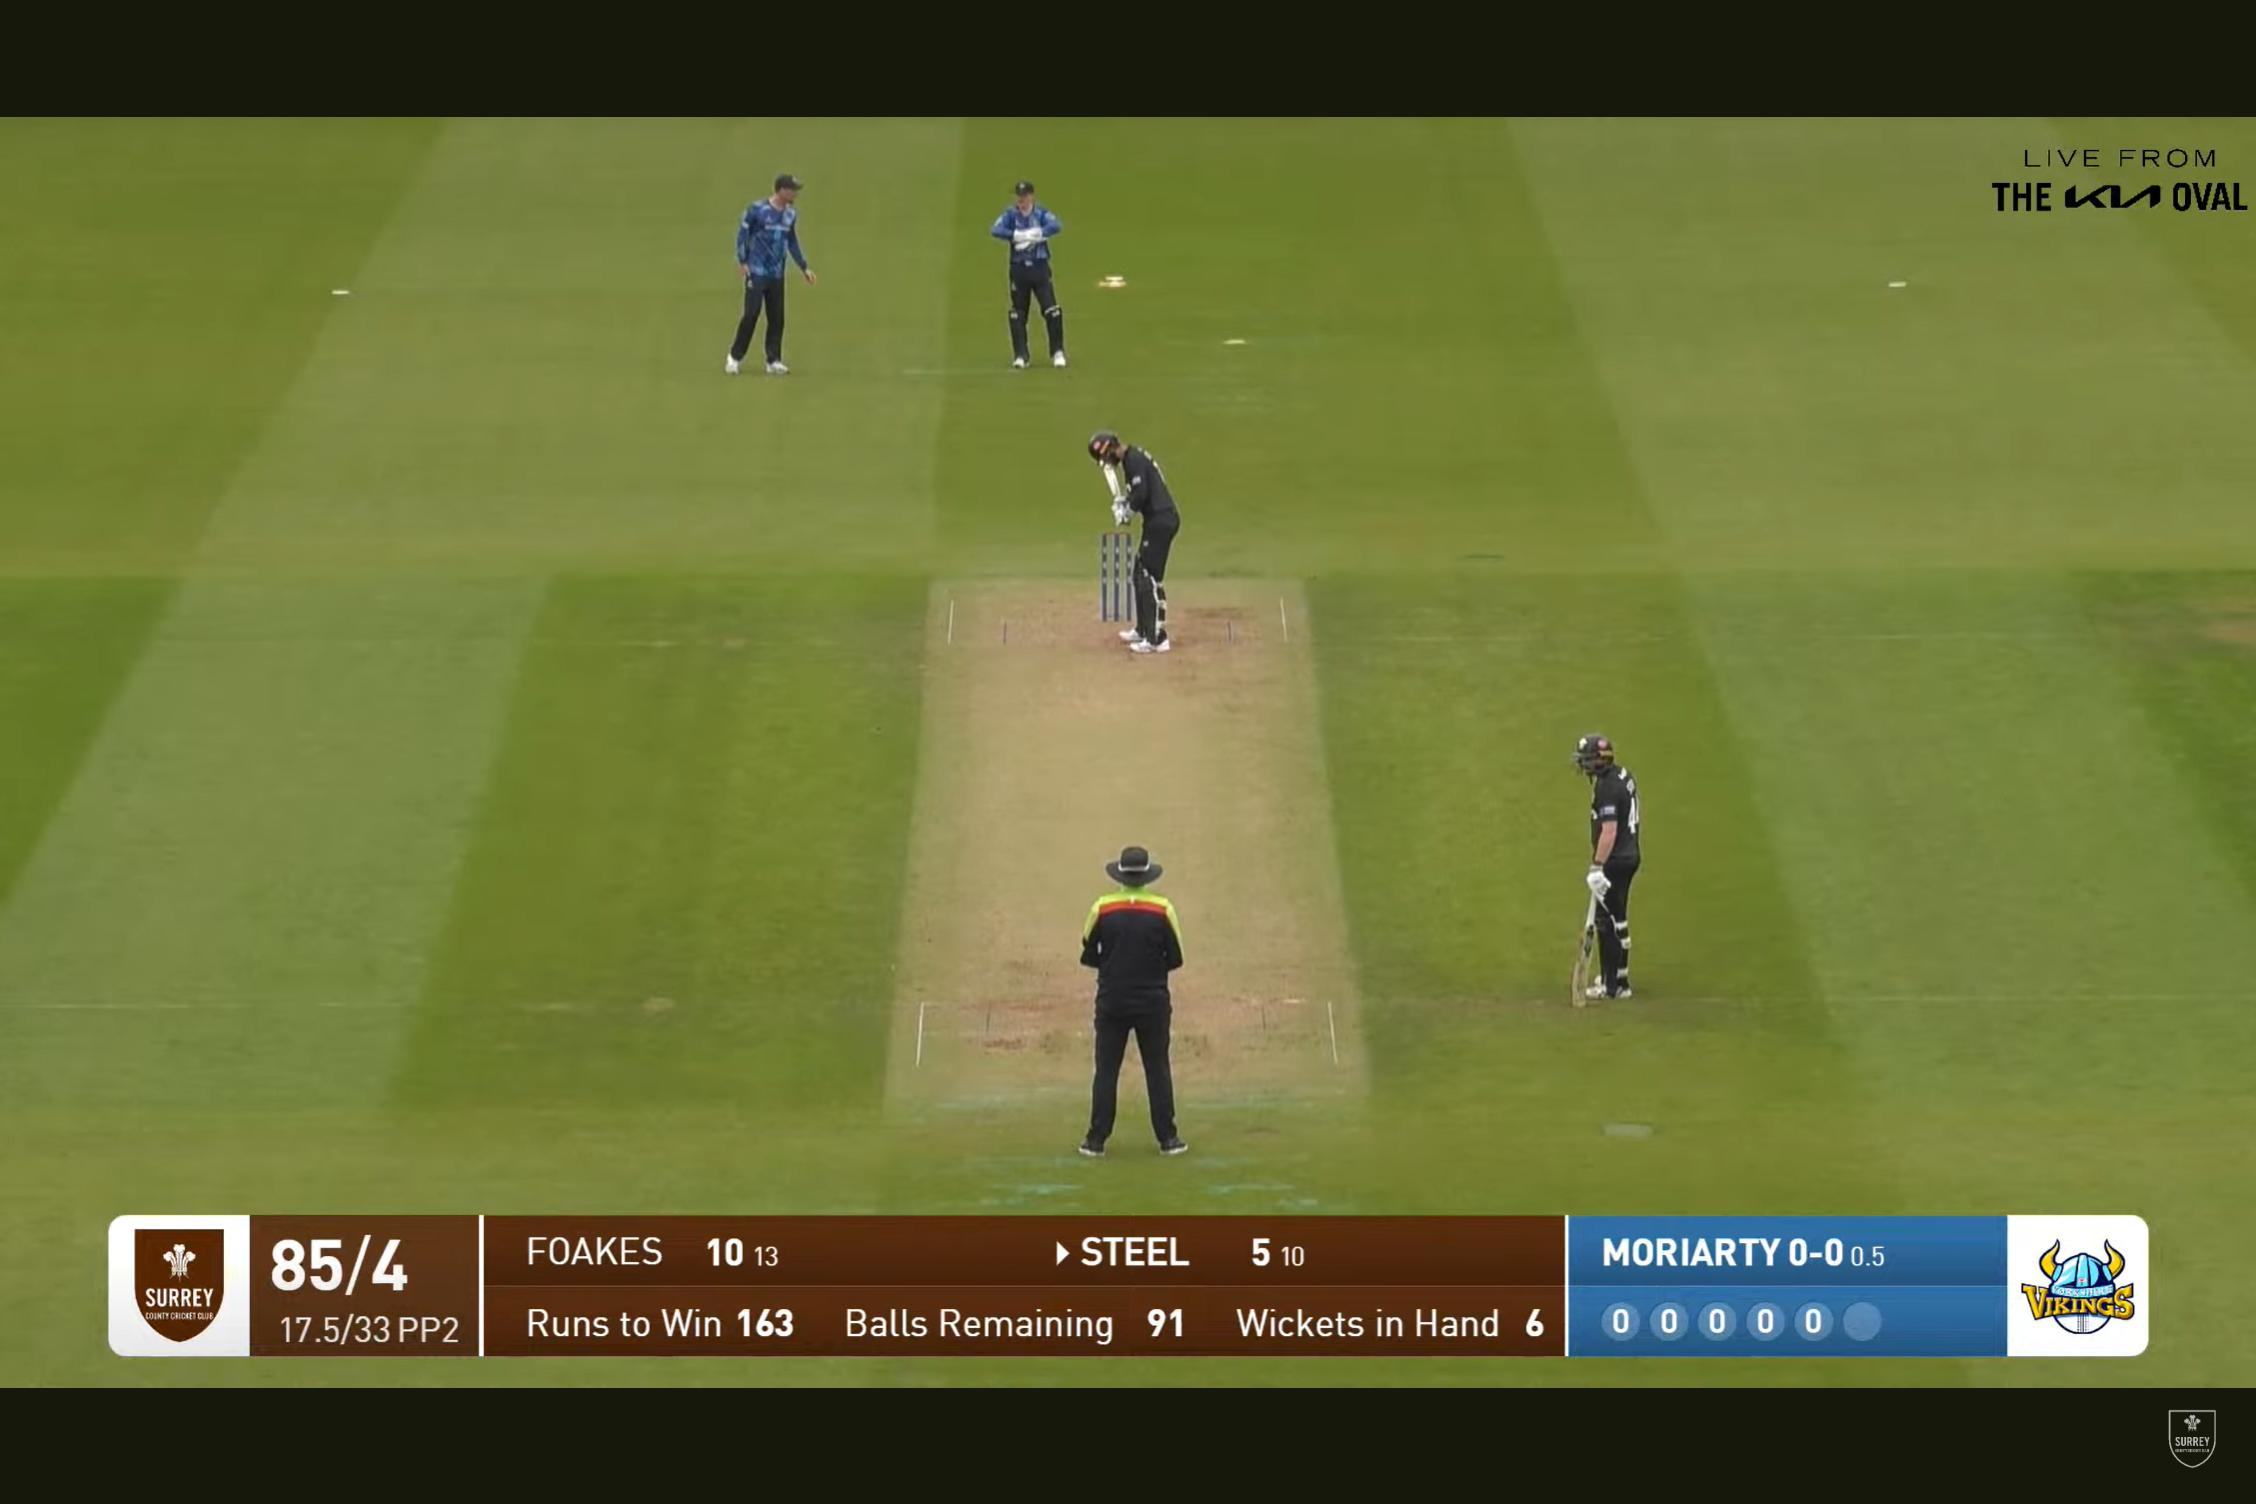batsman: (1076, 421, 1195, 663)
non striker: (1539, 707, 1670, 1017)
umpire: (1057, 807, 1215, 1172)
wicket keeper: (970, 168, 1099, 386)
